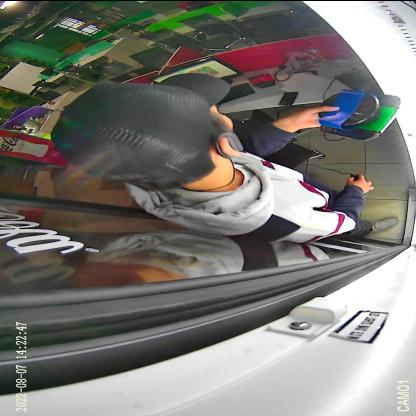blue: (317, 89, 384, 130)
green: (319, 93, 401, 140)
